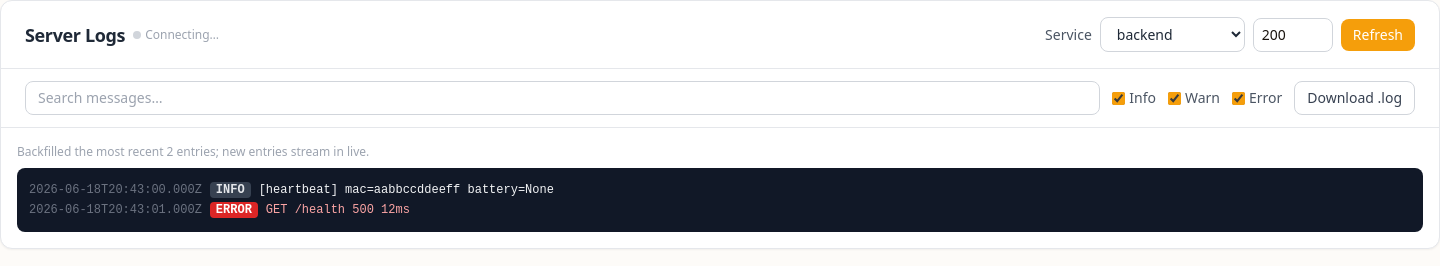
ServerLogsPanel (#171/#178) › hides a level when its checkbox is unchecked
Check: the text "GET /health 500 12ms" is shown, box x1=266 y1=202 x2=410 y2=218
Check: the number of elements with test id "server-log-entry" is 2, box x1=29 y1=182 x2=554 y2=198; x1=29 y1=202 x2=410 y2=218
Click the checkbox with test id "logs-level-info". click: coordinates (1119, 98)
box: x1=1112 y1=92 x2=1125 y2=104
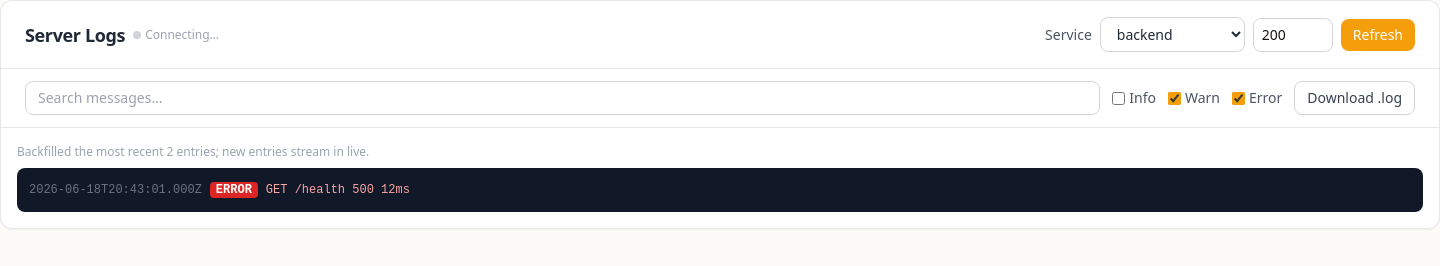
Check: the number of elements with test id "server-log-entry" is 1, box x1=29 y1=182 x2=410 y2=198
